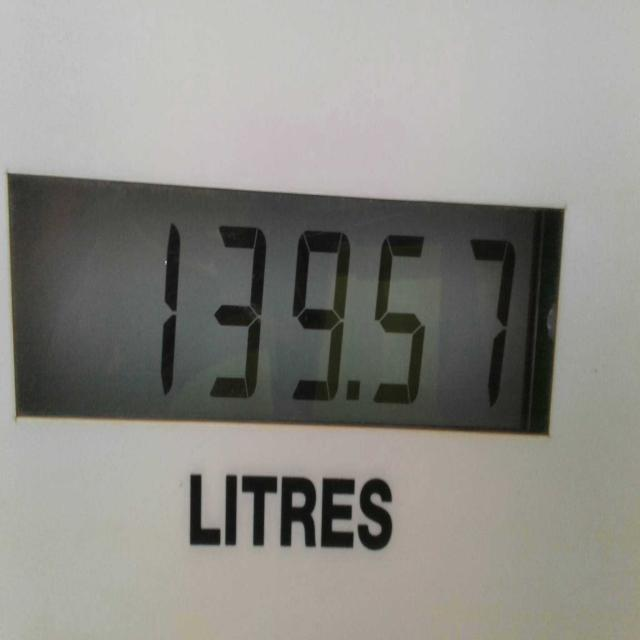.: (349, 375, 361, 403)
1: (165, 225, 180, 391)
3: (213, 220, 264, 402)
5: (375, 236, 427, 408)
7: (472, 236, 515, 412)
9: (288, 225, 349, 403)
